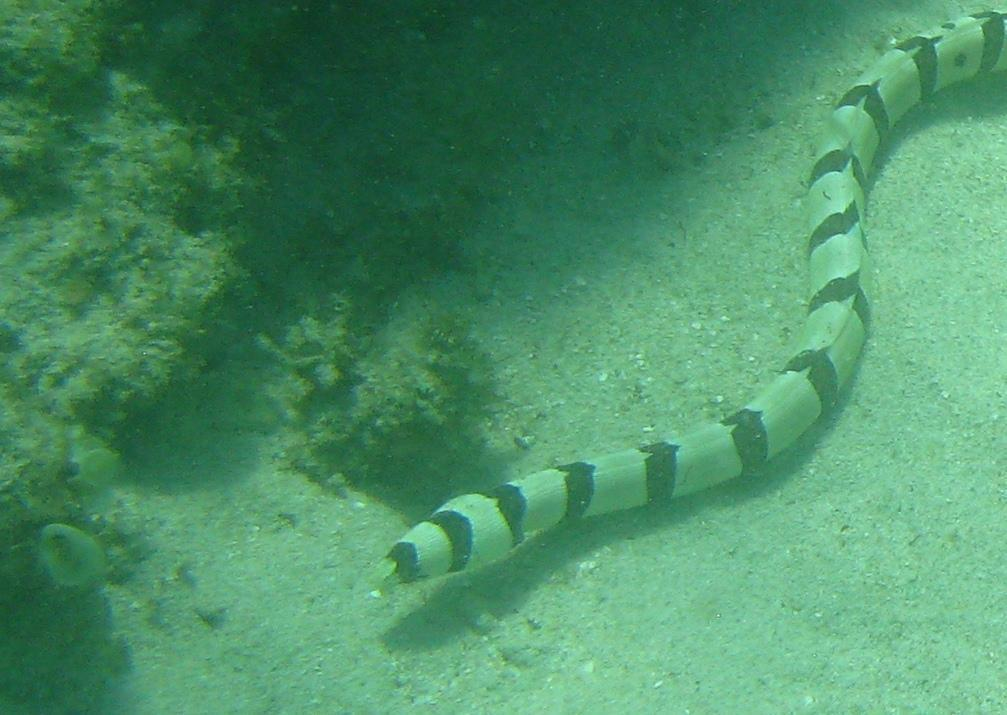Fish: (0, 0, 860, 456)
